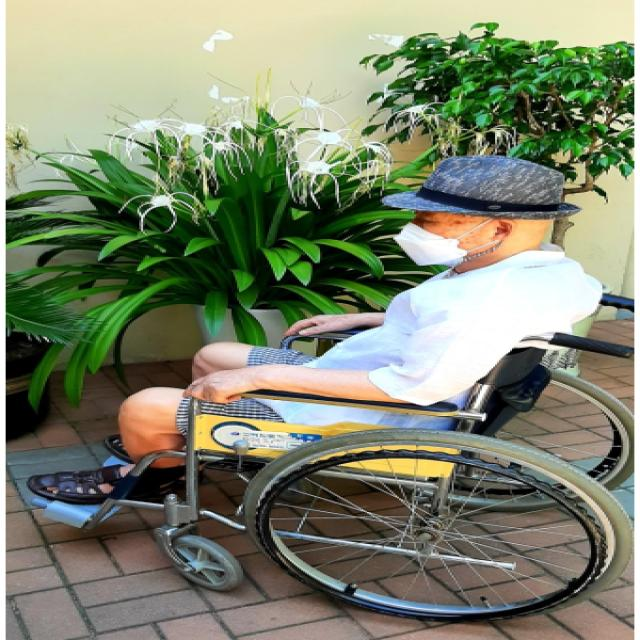wheelchair: (30, 152, 632, 621)
